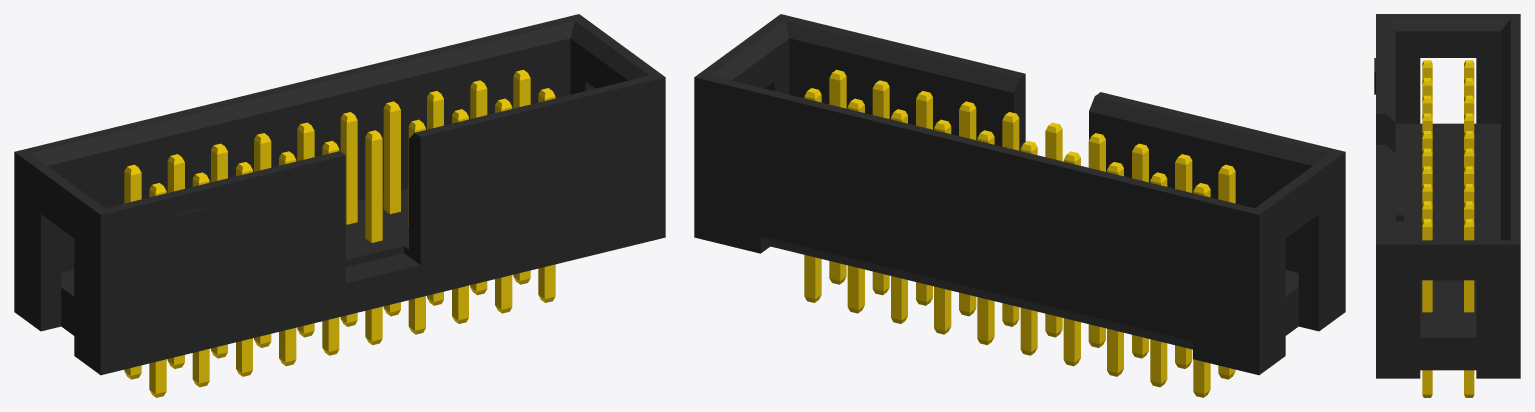
3 views of the same model, side by side, from view 1: azimuth 30°, elevation 25°; view 2: azimuth 150°, elevation 25°; view 3: azimuth 270°, elevation 25° (orthographic). The views are drawn at different scales.
Parts seen in each view (by area): view 1: IDC (CONNFLY); view 2: IDC (CONNFLY); view 3: IDC (CONNFLY).
Boxes of the visible parts, <box> form: IDC (CONNFLY): <box>14,14,665,397</box>; IDC (CONNFLY): <box>694,14,1345,397</box>; IDC (CONNFLY): <box>1374,14,1520,397</box>.
Bounding box in the file's own units: 0.0332 × 0.0126 × 0.0089.
